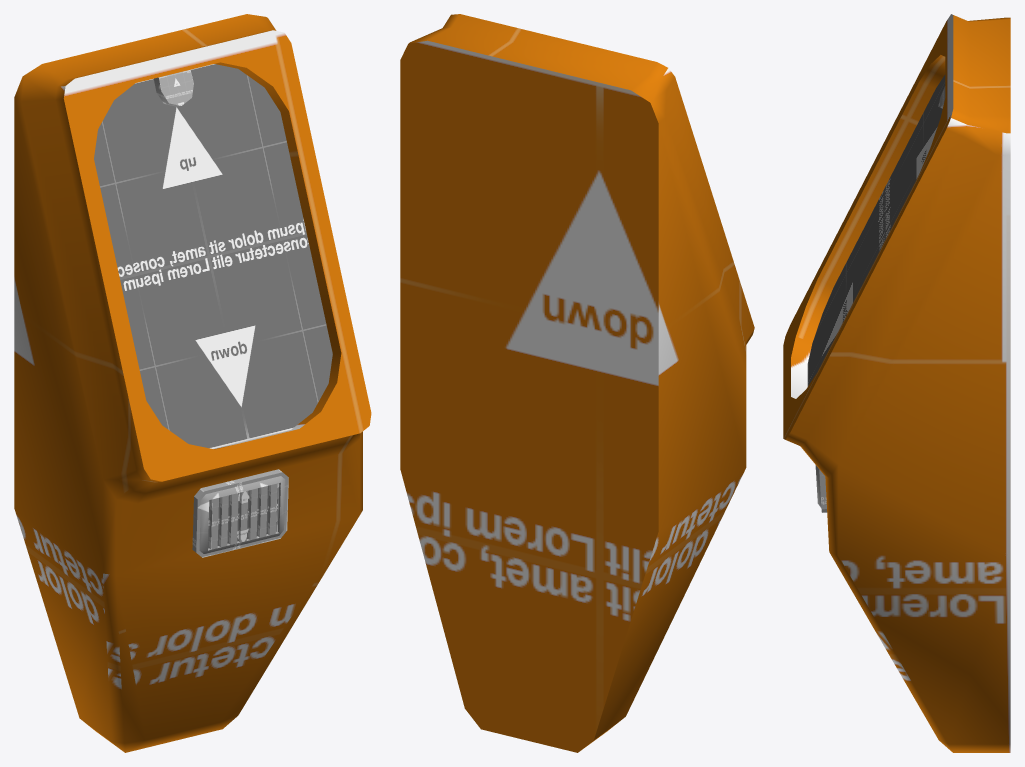
Rendered from door_ring.glb.
3 views of the same model, side by side, from view 1: azimuth 30°, elevation 25°; view 2: azimuth 150°, elevation 25°; view 3: azimuth 270°, elevation 25° (orthographic). The views are drawn at different scales.
Parts seen in each view (by area): view 1: door_ring; view 2: door_ring; view 3: door_ring.
Boxes of the visible parts, box(x1,y1,x2,y2) form: door_ring: box(14, 14, 371, 752); door_ring: box(400, 14, 754, 752); door_ring: box(783, 14, 1010, 752).
Size of what is drawn, in the model's own units: 0.08 by 0.2018 by 0.0622.
3 materials, 3 textured.
